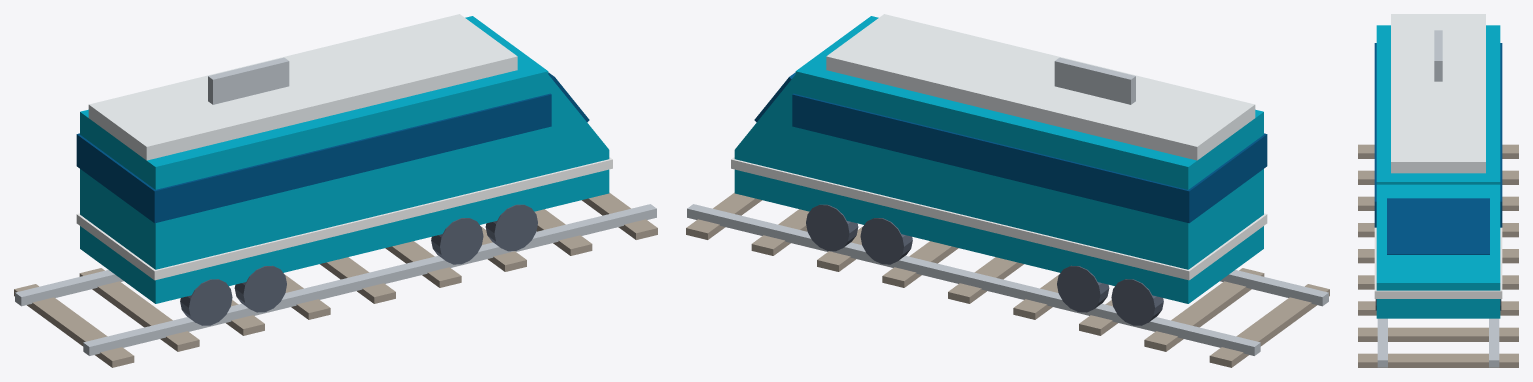
The model's file is travel-icon-train.glb.
The picture shows the model from 3 angles, left to right: view 1: azimuth 30°, elevation 25°; view 2: azimuth 150°, elevation 25°; view 3: azimuth 270°, elevation 25°; orthographic projection. The views are drawn at different scales.
Visible parts, largest first — view 1: train_body, train_roof, train_window_band, train_rail_r, train_stripe, train_nose, train_pantograph, train_sleeper_0, train_sleeper_1, train_wheel_0_r, train_wheel_1_r, train_wheel_2_r (+9 smaller); view 2: train_body, train_roof, train_window_band, train_rail_l, train_stripe, train_nose, train_pantograph, train_sleeper_0, train_sleeper_1, train_wheel_0_l, train_wheel_1_l, train_wheel_2_l (+9 smaller); view 3: train_roof, train_nose, train_body, train_windscreen, train_sleeper_8, train_sleeper_7, train_stripe, train_window_band, train_sleeper_6, train_rail_l, train_rail_r, train_sleeper_0 (+6 smaller).
Boxes of the visible parts, box(x1,y1,x2,y2) form: train_body: box(80, 16, 548, 303); train_roof: box(88, 14, 517, 160); train_window_band: box(76, 93, 551, 223); train_rail_r: box(83, 204, 656, 355); train_stripe: box(76, 157, 612, 280); train_nose: box(546, 72, 609, 208); train_pantograph: box(208, 57, 289, 104); train_sleeper_0: box(14, 284, 134, 367); train_sleeper_1: box(79, 268, 199, 351); train_wheel_0_r: box(180, 279, 232, 325); train_wheel_1_r: box(234, 265, 286, 312); train_wheel_2_r: box(431, 218, 483, 264); train_body: box(795, 16, 1263, 303); train_roof: box(826, 14, 1255, 160); train_window_band: box(792, 93, 1267, 223); train_rail_l: box(687, 204, 1260, 355); train_stripe: box(731, 157, 1267, 280); train_nose: box(734, 75, 797, 208); train_pantograph: box(1054, 57, 1135, 104); train_sleeper_0: box(1209, 284, 1329, 367); train_sleeper_1: box(1144, 268, 1264, 351); train_wheel_0_l: box(1111, 279, 1163, 325); train_wheel_1_l: box(1057, 265, 1109, 312); train_wheel_2_l: box(860, 218, 912, 264); train_roof: box(1391, 14, 1485, 173); train_nose: box(1376, 184, 1500, 318); train_body: box(1376, 25, 1500, 184); train_windscreen: box(1387, 198, 1489, 254); train_sleeper_8: box(1358, 353, 1518, 367); train_sleeper_7: box(1358, 327, 1518, 341); train_stripe: box(1374, 227, 1502, 298); train_window_band: box(1374, 43, 1502, 227); train_sleeper_6: box(1358, 301, 1518, 315); train_rail_l: box(1489, 318, 1499, 367); train_rail_r: box(1377, 318, 1387, 367); train_sleeper_0: box(1358, 144, 1518, 158).
Size of the model in its own units: 2.6 by 0.955 by 0.78.
